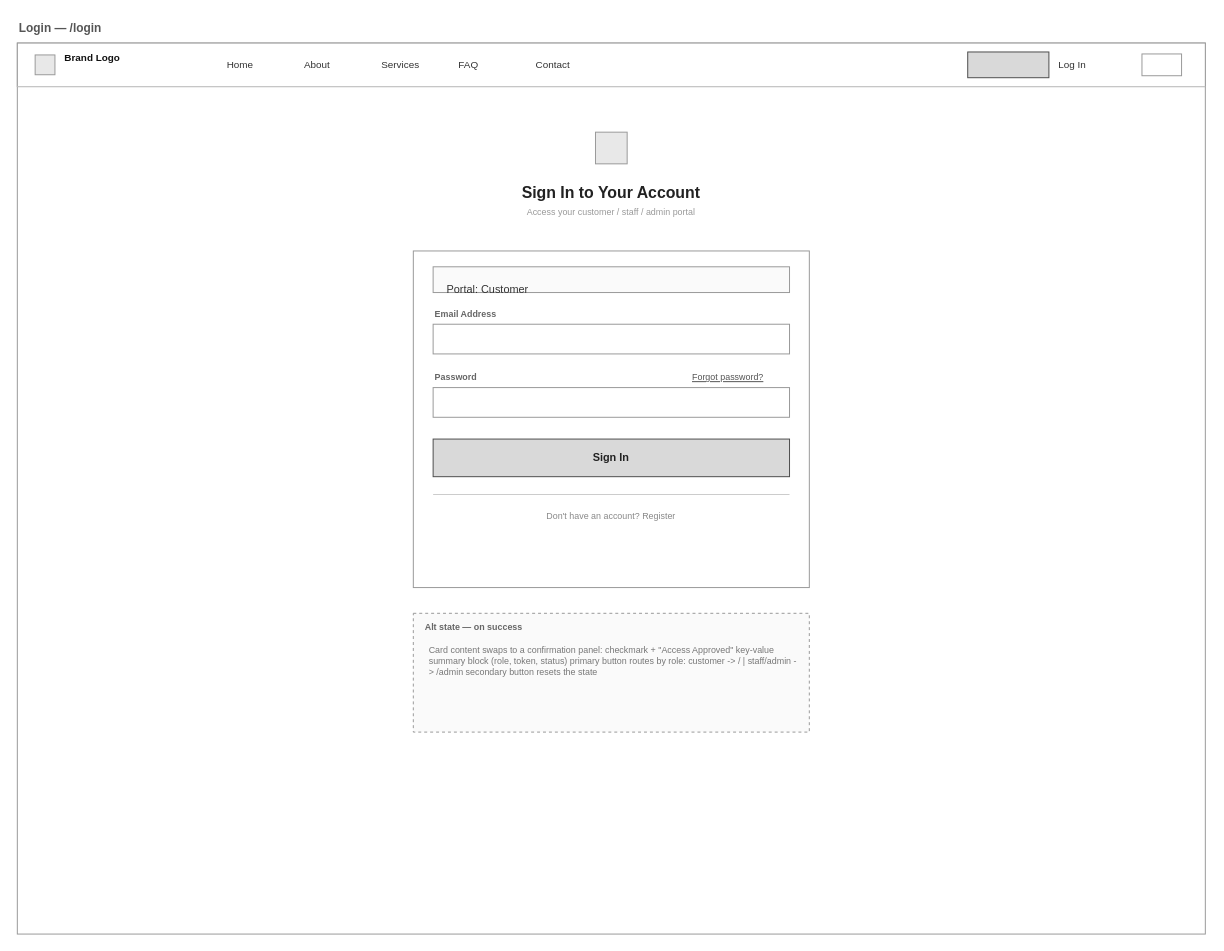
Some shapes in this 1224 by 951 pixel diagram are drawn without their labels. The shapes that lost their labels are listed below. From the top down, each one's box as (x1, y1, x2, y2) in pixels, then its label:
(967, 51, 1049, 78): Register
(1141, 53, 1182, 76): EN ▾
